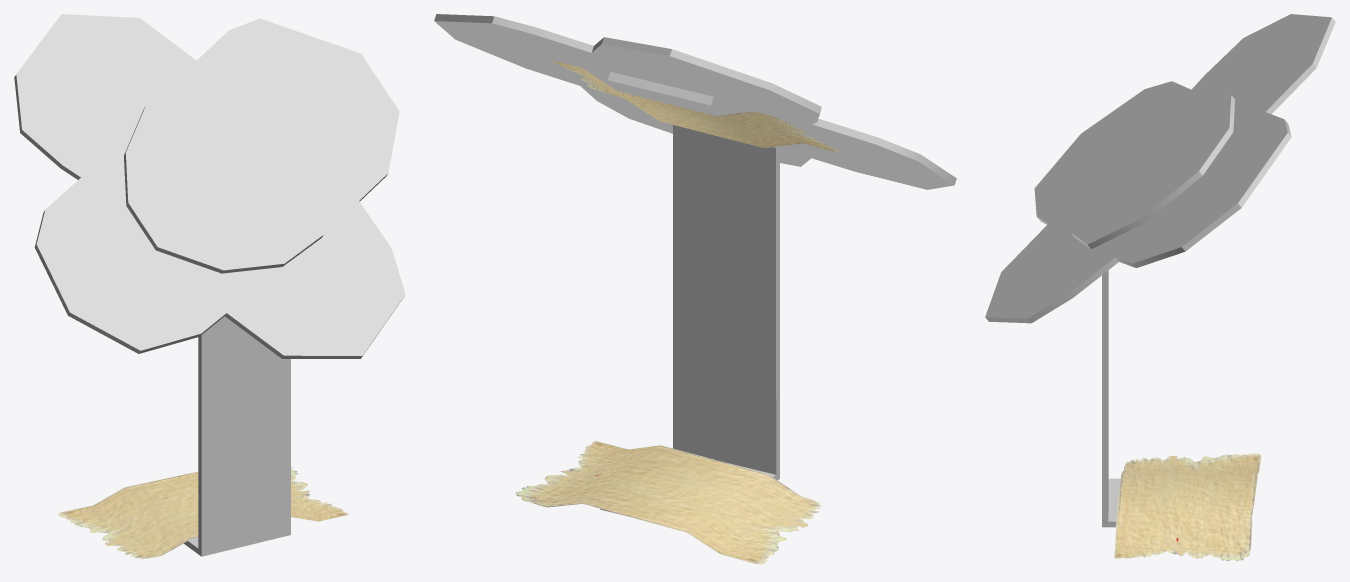
The model's file is Flower V2.fbx.
3 renders of one model, left to right at view 1: azimuth 30°, elevation 25°; view 2: azimuth 150°, elevation 25°; view 3: azimuth 270°, elevation 25°, orthographic. The views are drawn at different scales.
Visible parts, largest first — view 1: Petals, Dot, Stem, Tape; view 2: Stem, Tape, Petals; view 3: Petals, Tape, Dot, Stem.
Boxes of the visible parts, x1,y1,x2,y2 form: Petals: (14,14,405,358); Dot: (124,92,323,273); Stem: (184,316,290,556); Tape: (57,467,348,559); Stem: (600,71,779,513); Tape: (515,60,841,564); Petals: (434,14,956,189); Petals: (985,14,1335,323); Tape: (1114,453,1261,561); Dot: (1071,95,1234,248); Stem: (1102,270,1120,527).
Size of the model in its own units: 2.05 by 2.38 by 1.66.
Materials: 1 (1 with a texture image).
